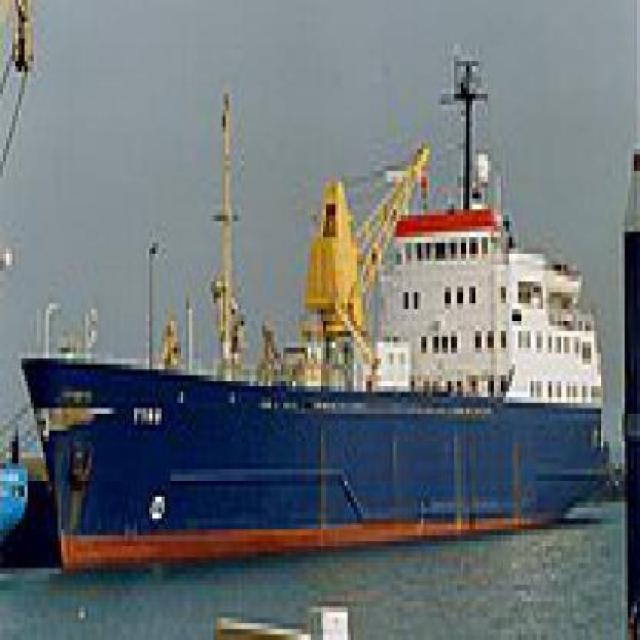container: (19, 34, 614, 597)
